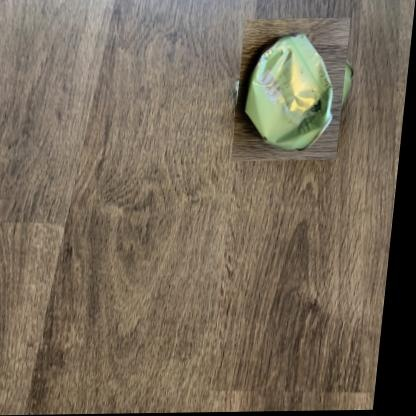trash: (245, 33, 332, 149)
